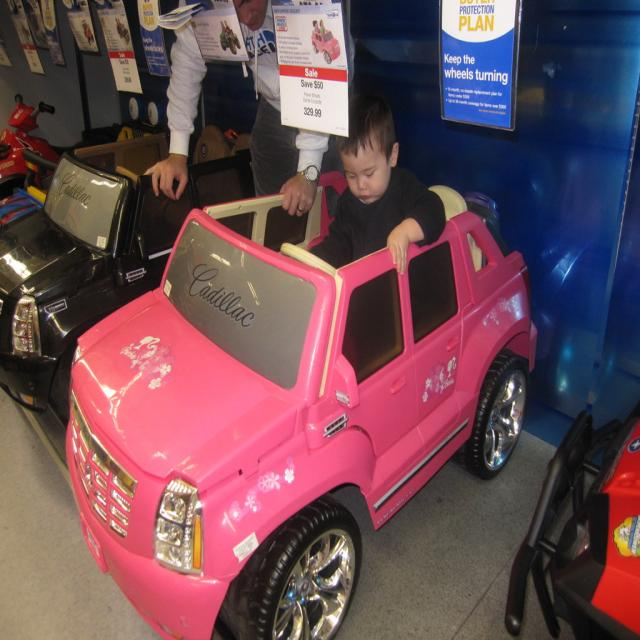Passenger Car: (65, 184, 552, 637)
